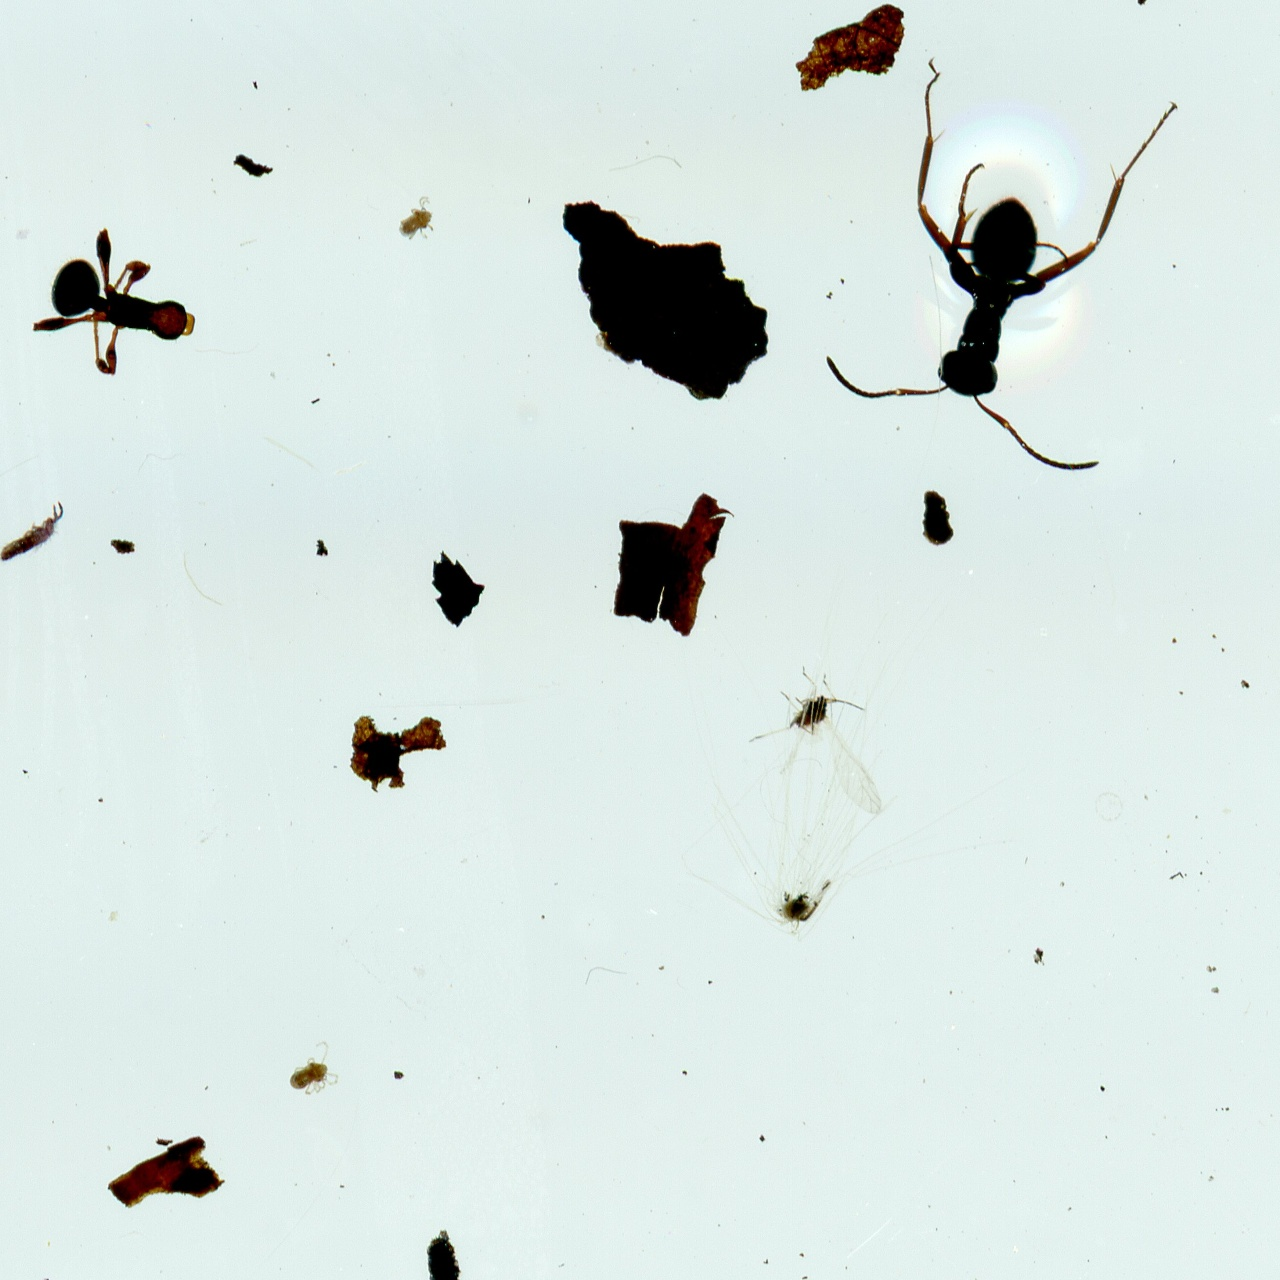arthropod: (815, 50, 1190, 496), (26, 225, 198, 379), (744, 656, 891, 828), (0, 488, 82, 583), (288, 1039, 340, 1100), (396, 194, 438, 246)
